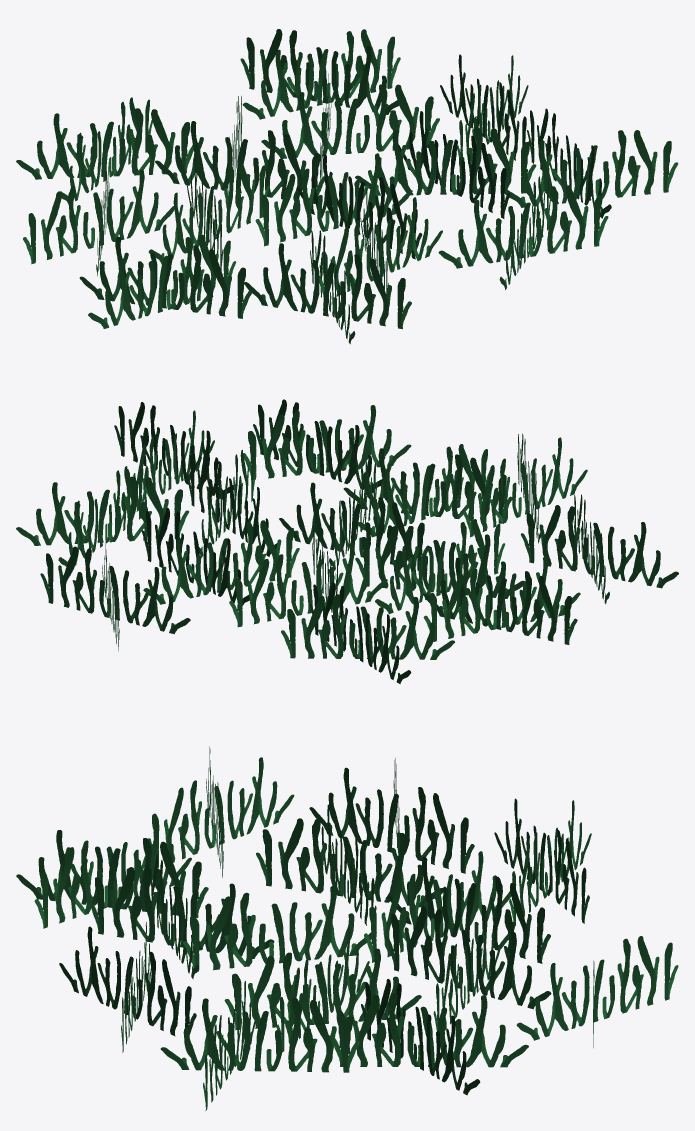
The model's file is Tropics Grass Patch.fbx.
The picture shows the model from 3 angles, top to bottom: view 1: azimuth 30°, elevation 25°; view 2: azimuth 150°, elevation 25°; view 3: azimuth 270°, elevation 25°; orthographic projection. The views are drawn at different scales.
Visible parts, largest first — view 1: Tropics Grass; view 2: Tropics Grass; view 3: Tropics Grass.
Part boxes in pixels (x1,y1,x2,y2): Tropics Grass: (16,29,678,344); Tropics Grass: (16,399,678,683); Tropics Grass: (16,746,678,1110).
Bounding box in the file's own units: 1198 × 137 × 1060.
